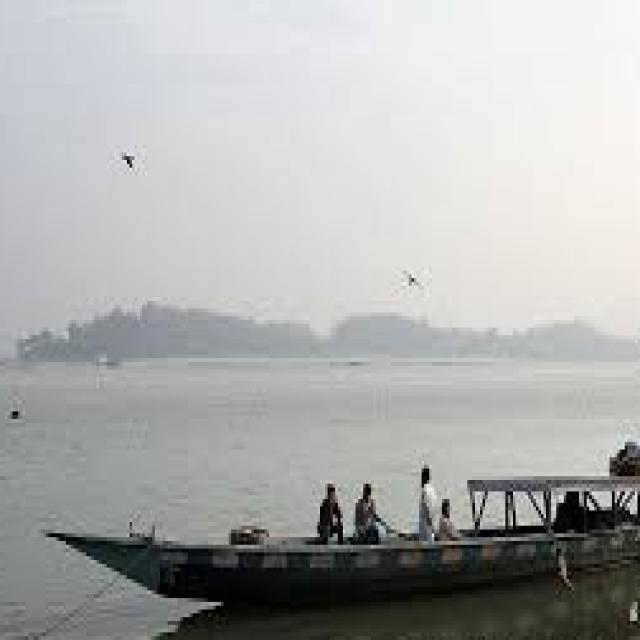fishing boat: (41, 415, 640, 605)
